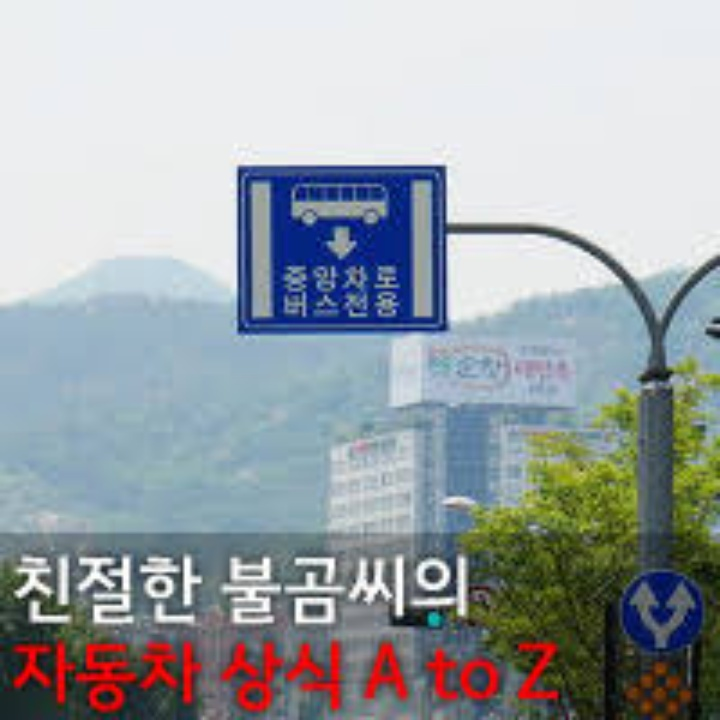bus: (284, 177, 393, 228)
